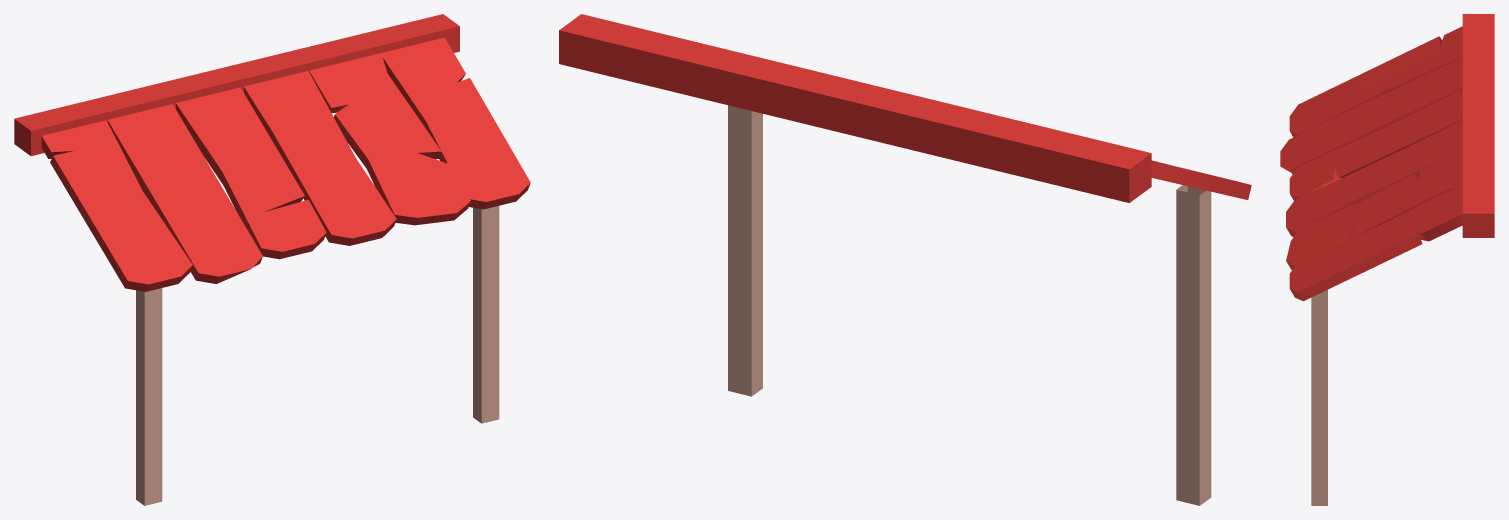
File: Building_Canopy_003.glb
3 renders of one model, left to right at view 1: azimuth 30°, elevation 25°; view 2: azimuth 150°, elevation 25°; view 3: azimuth 270°, elevation 25°, orthographic. The views are drawn at different scales.
Visible parts, largest first — view 1: Building_Canopy_003; view 2: Building_Canopy_003; view 3: Building_Canopy_003.
Boxes of the visible parts, <box> form: Building_Canopy_003: <box>14,14,530,505</box>; Building_Canopy_003: <box>559,14,1251,505</box>; Building_Canopy_003: <box>1280,14,1494,505</box>.
Bounding box in the file's own units: 7.54 × 5.47 × 3.42.
1 material, 1 textured.
